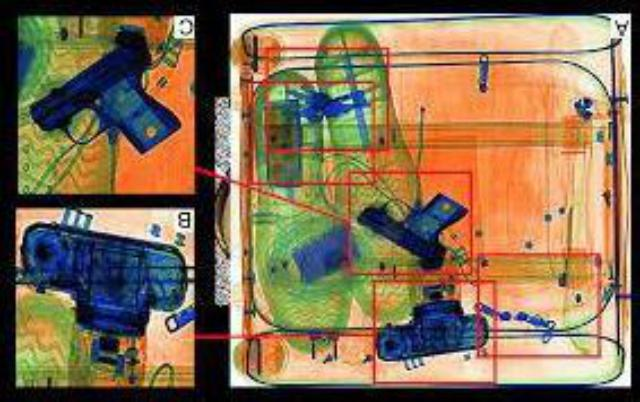Gun: (23, 20, 180, 151), (352, 188, 468, 264)
